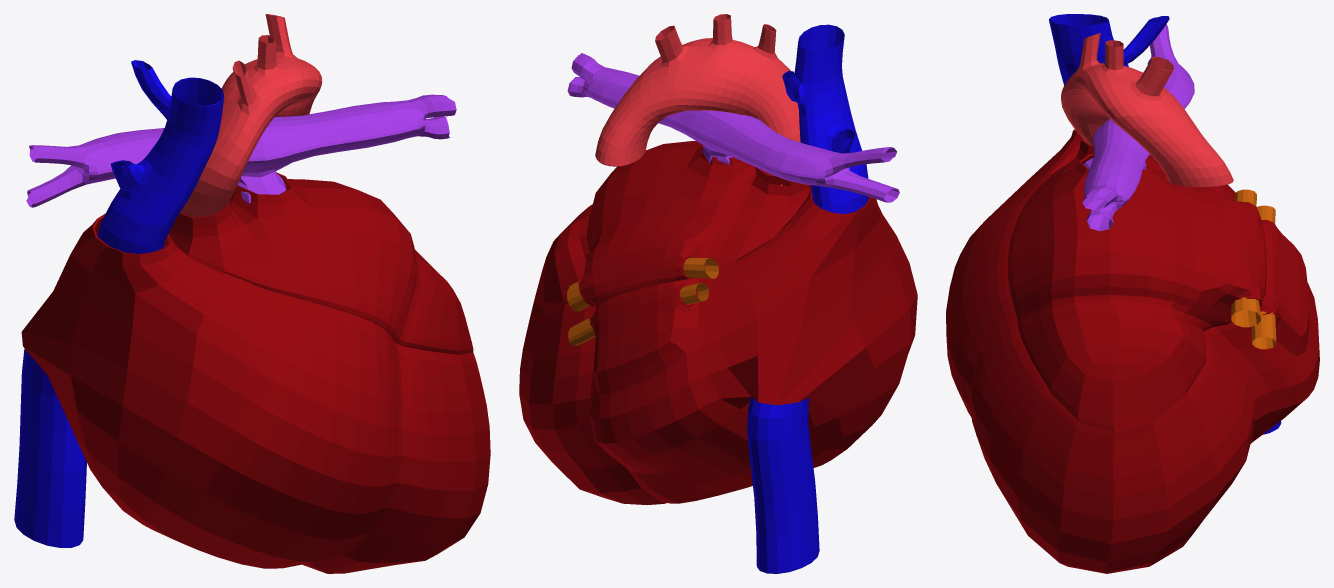
File: Human Heart2.fbx
3 renders of one model, left to right at view 1: azimuth 30°, elevation 25°; view 2: azimuth 150°, elevation 25°; view 3: azimuth 270°, elevation 25°, orthographic. The views are drawn at different scales.
Visible parts, largest first — view 1: Cube, Cube.001, Cube.005, Cube.002; view 2: Cube, Cube.001, Cube.002, Cube.005, Cube.003, Cube.004; view 3: Cube, Cube.002, Cube.005, Cube.001, Cube.003, Cube.004.
Part boxes in pixels (x1,y1,x2,y2): Cube: (21,172,490,573); Cube.001: (14,60,223,547); Cube.005: (26,94,456,207); Cube.002: (180,14,322,217); Cube: (519,141,917,504); Cube.001: (747,24,868,573); Cube.002: (595,14,800,185); Cube.005: (567,53,899,202); Cube.003: (567,257,718,311); Cube.004: (568,282,708,345); Cube: (946,129,1319,573); Cube.002: (1061,33,1233,186); Cube.005: (1082,24,1194,231); Cube.001: (1049,14,1281,434); Cube.003: (1231,189,1260,327); Cube.004: (1251,205,1276,349).
Bounding box in the file's own units: 246 × 216 × 299.
